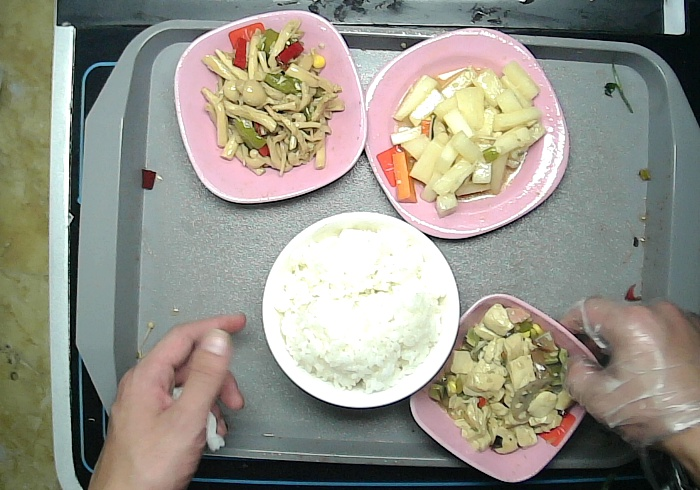SHKJ-Fan_Wan: (260, 209, 463, 411)
SHKJ-Fen_Se_Cai_Die: (170, 9, 371, 206)
SHKJ-Fen_Se_Si_Fang_Cai_Die: (355, 24, 571, 243)
SHKJ-Fen_Se_Xiao_Fang_Die: (405, 292, 604, 485)
